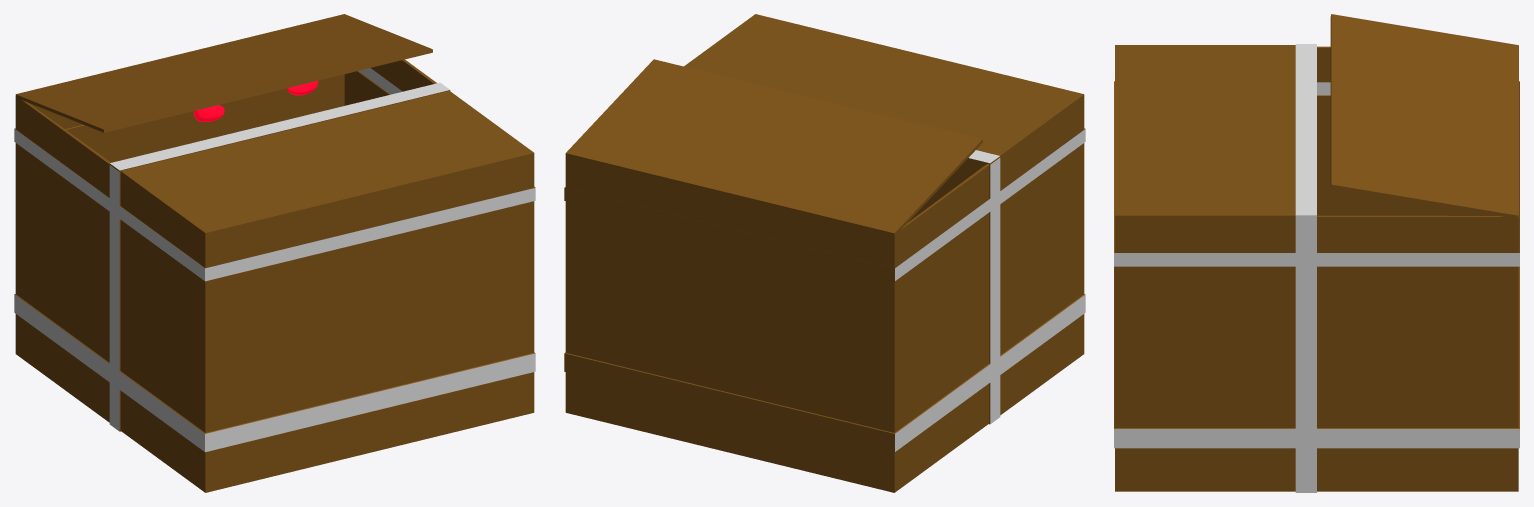
File: box with glowing eyes.fbx
The picture shows the model from 3 angles, left to right: view 1: azimuth 30°, elevation 25°; view 2: azimuth 150°, elevation 25°; view 3: azimuth 270°, elevation 25°; orthographic projection. The views are drawn at different scales.
Parts seen in each view (by area): view 1: Cube, Icosphere.001; view 2: Cube; view 3: Cube.
Boxes of the visible parts, x1,y1,x2,y2 form: Cube: (14, 14, 535, 492); Icosphere.001: (193, 81, 318, 121); Cube: (564, 14, 1085, 492); Cube: (1114, 14, 1519, 492).
Bounding box in the file's own units: 537 × 449 × 537.
